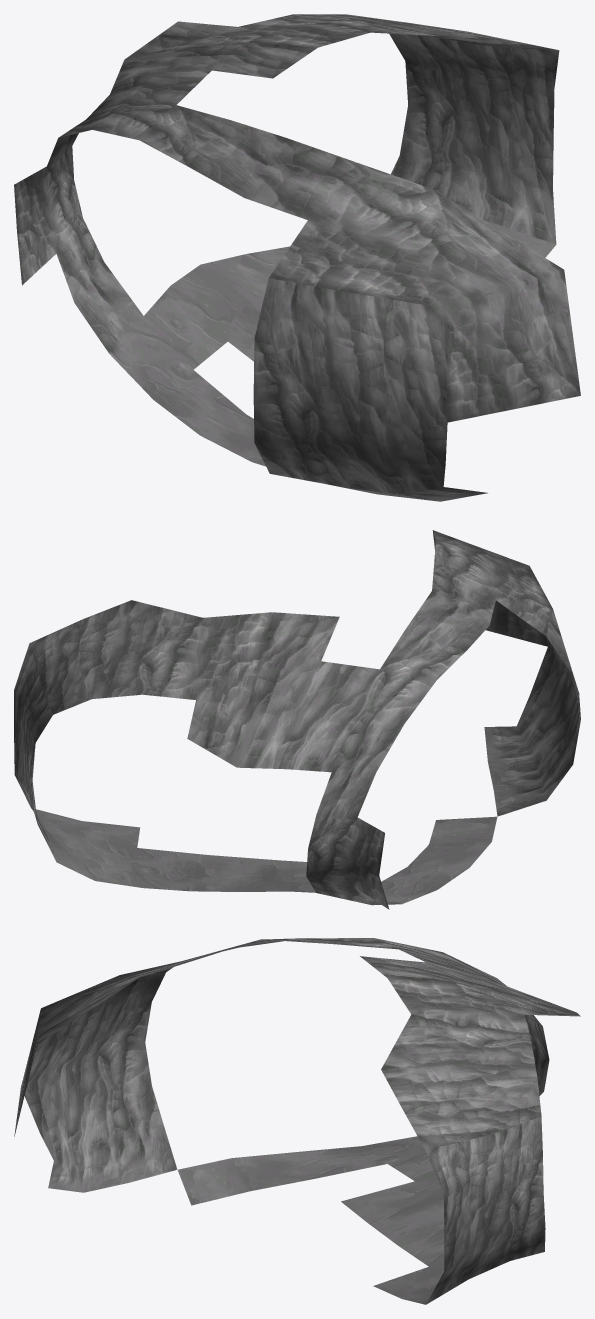
Rendered from SWORDLIGHT20_PS-AREA02-03TRANS_07.fbx.
The picture shows the model from 3 angles, top to bottom: view 1: azimuth 30°, elevation 25°; view 2: azimuth 150°, elevation 25°; view 3: azimuth 270°, elevation 25°; orthographic projection. The views are drawn at different scales.
Visible parts, largest first — view 1: SWORDLIGHT20_PS-AREA02-03TRANS_07; view 2: SWORDLIGHT20_PS-AREA02-03TRANS_07; view 3: SWORDLIGHT20_PS-AREA02-03TRANS_07.
Boxes of the visible parts, box(x1,y1,x2,y2) form: SWORDLIGHT20_PS-AREA02-03TRANS_07: box(14, 14, 580, 501); SWORDLIGHT20_PS-AREA02-03TRANS_07: box(14, 530, 580, 909); SWORDLIGHT20_PS-AREA02-03TRANS_07: box(14, 938, 580, 1304).
Size of the model in its own units: 123711 by 76710 by 154212.
Materials: 3 (3 with a texture image).
